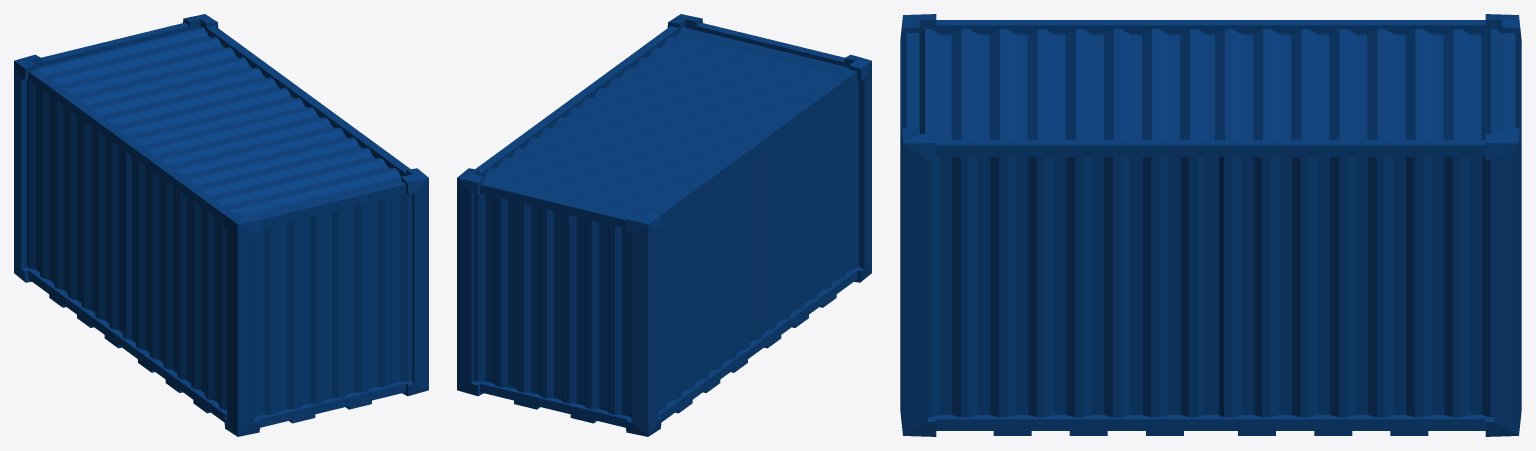
File: Container.fbx
The picture shows the model from 3 angles, left to right: view 1: azimuth 30°, elevation 25°; view 2: azimuth 150°, elevation 25°; view 3: azimuth 270°, elevation 25°; orthographic projection. The views are drawn at different scales.
Parts seen in each view (by area): view 1: Cube; view 2: Cube; view 3: Cube.
Part boxes in pixels (x1=…): Cube: x1=14, y1=14, x2=428, y2=436; Cube: x1=457, y1=14, x2=871, y2=436; Cube: x1=900, y1=14, x2=1521, y2=436.
Bounding box in the file's own units: 196 × 208 × 394.
